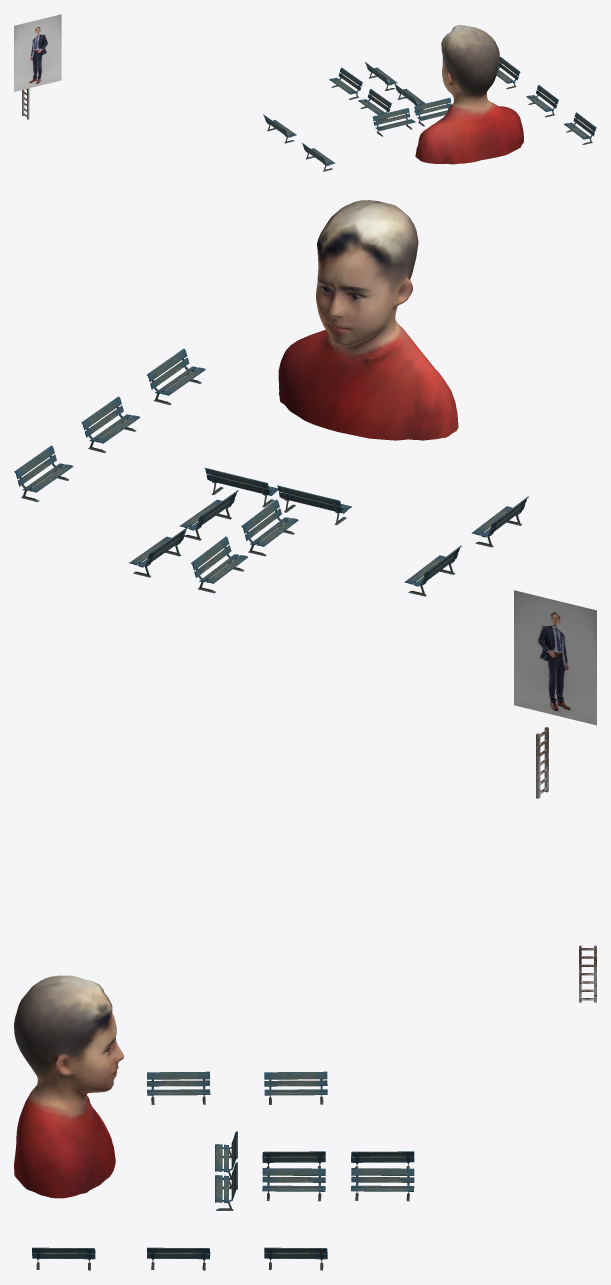
Rendered from passthrough.obj.
3 views of the same model, one above another, from view 1: azimuth 30°, elevation 25°; view 2: azimuth 150°, elevation 25°; view 3: azimuth 270°, elevation 25° (orthographic). The views are drawn at different scales.
Parts seen in each view (by area): view 1: model, prop_static_60, passthrough; view 2: model, prop_static_60, passthrough; view 3: model, prop_static_60, Cube.005.
Part boxes in pixels (x1,y1,x2,y2): model: (415,25,523,164); prop_static_60: (263,56,596,171); passthrough: (14,14,61,91); model: (278,200,458,440); prop_static_60: (14,348,528,596); passthrough: (514,590,596,725); model: (14,975,123,1198); prop_static_60: (32,1071,414,1270); Cube.005: (579,945,596,1002).
Bounding box in the file's own units: 24.8 × 8.5 × 19.99.
4 materials, 4 textured.
